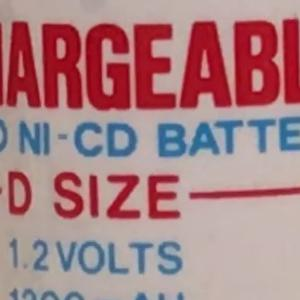keyword: (9, 113, 147, 165)
